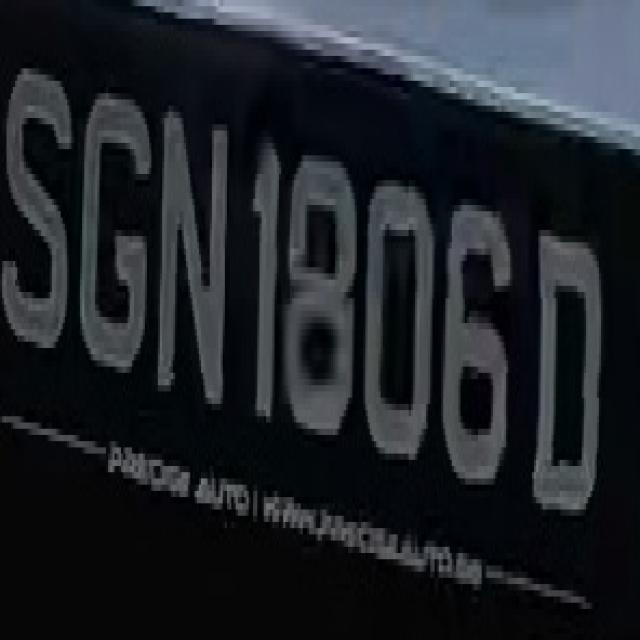0: (359, 149, 432, 485)
1: (251, 124, 285, 454)
6: (434, 174, 514, 503)
8: (285, 137, 357, 484)
D: (530, 217, 605, 522)
G: (78, 56, 151, 398)
N: (150, 99, 232, 435)
S: (6, 37, 74, 404)
